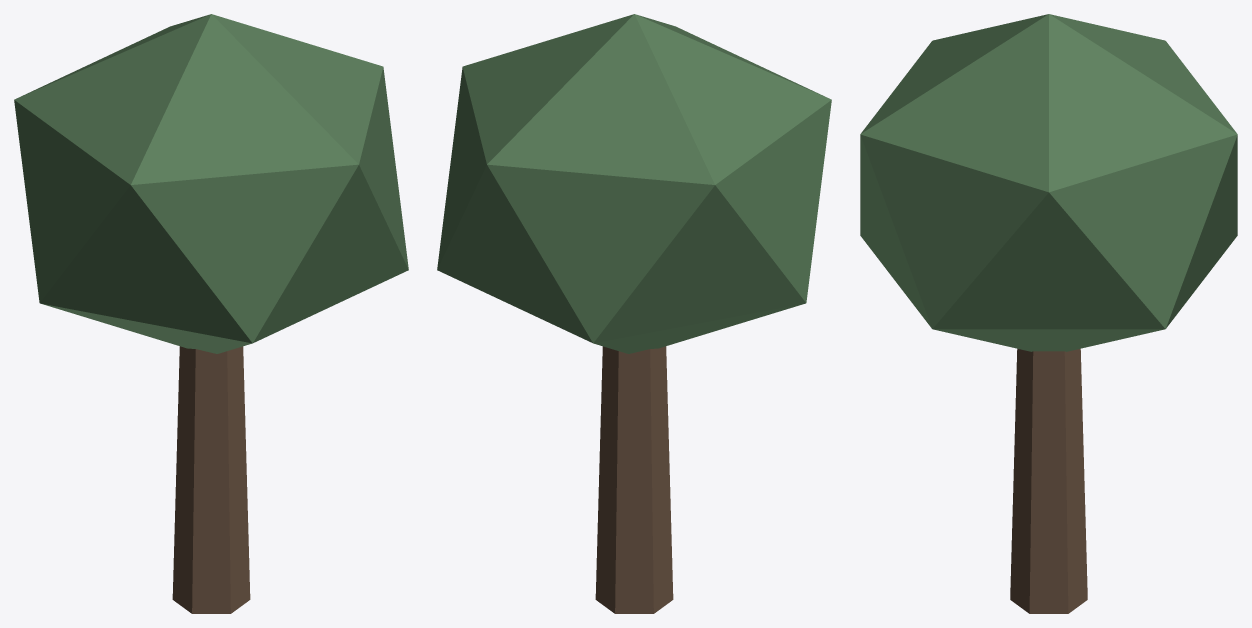
The model's file is arvore_copa.glb.
The picture shows the model from 3 angles, left to right: view 1: azimuth 30°, elevation 25°; view 2: azimuth 150°, elevation 25°; view 3: azimuth 270°, elevation 25°; orthographic projection.
Parts seen in each view (by area): view 1: arvore_copa; view 2: arvore_copa; view 3: arvore_copa.
Boxes of the visible parts, bbox=[...] form: arvore_copa: bbox=[14, 14, 408, 613]; arvore_copa: bbox=[437, 14, 831, 613]; arvore_copa: bbox=[860, 14, 1237, 613].
Size of the model in its own units: 2.86 by 4.66 by 2.72.
